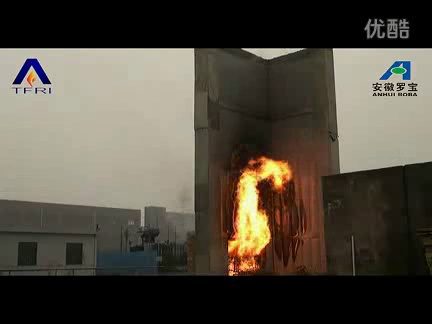fire: (228, 152, 291, 277)
